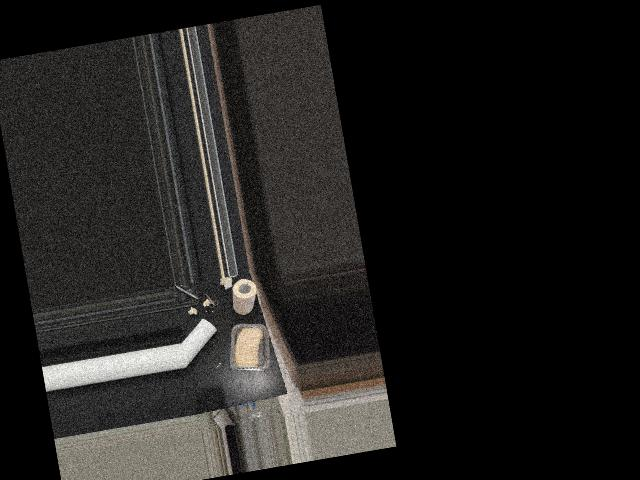cheese: (224, 319, 271, 376)
